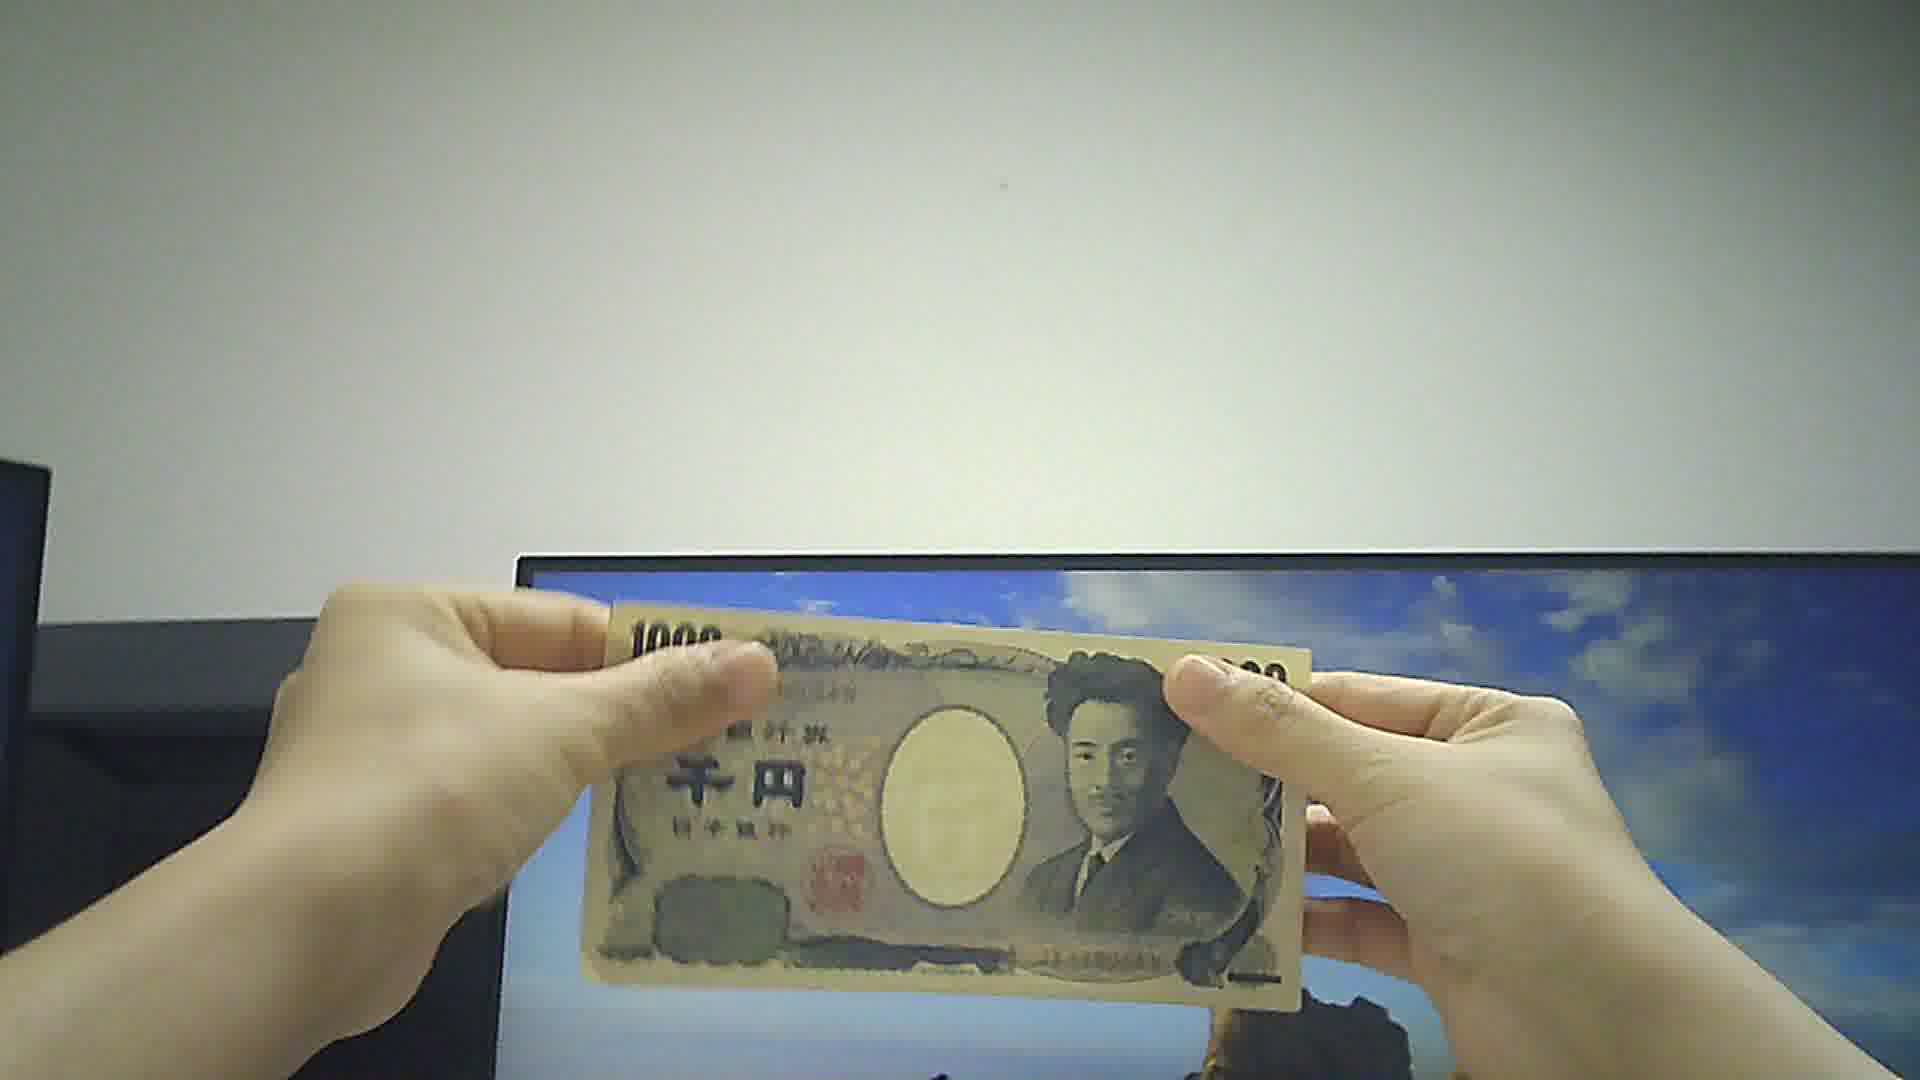1,000 Yen: (582, 583, 1308, 1007)
